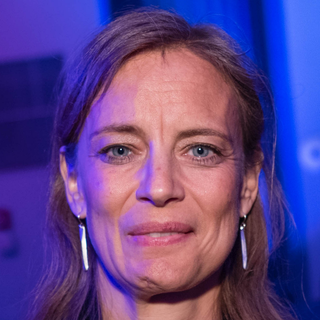eye: (177, 140, 224, 164), (98, 140, 142, 163)
